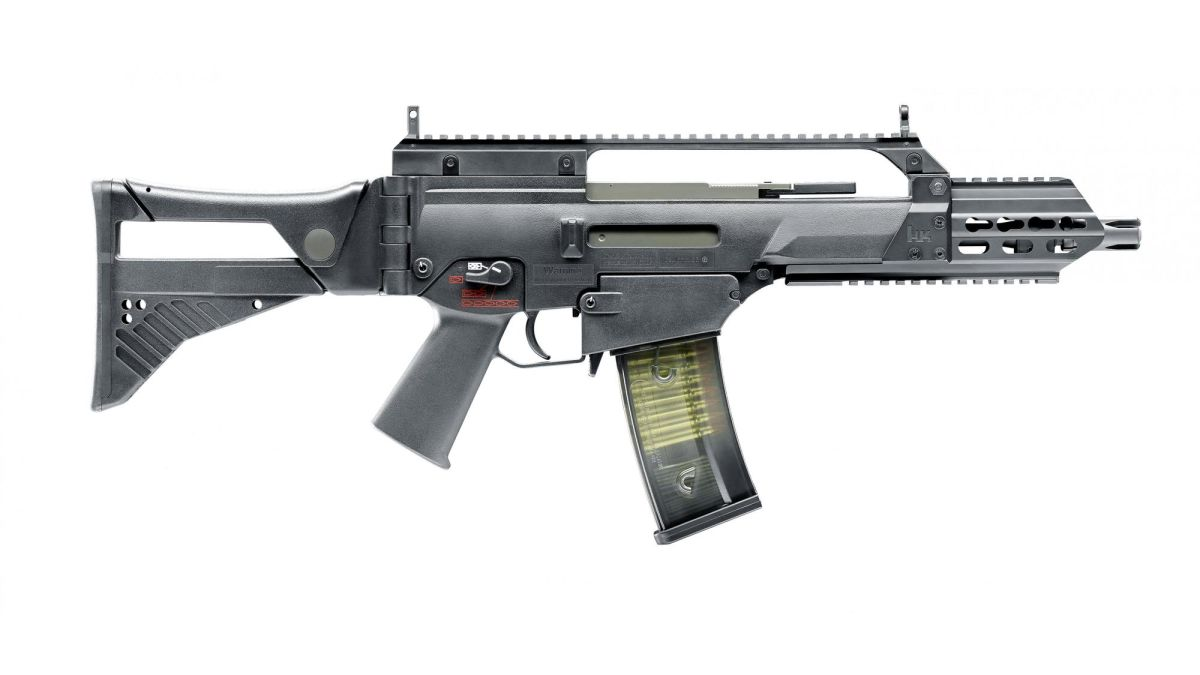weapon: (81, 94, 1159, 551)
